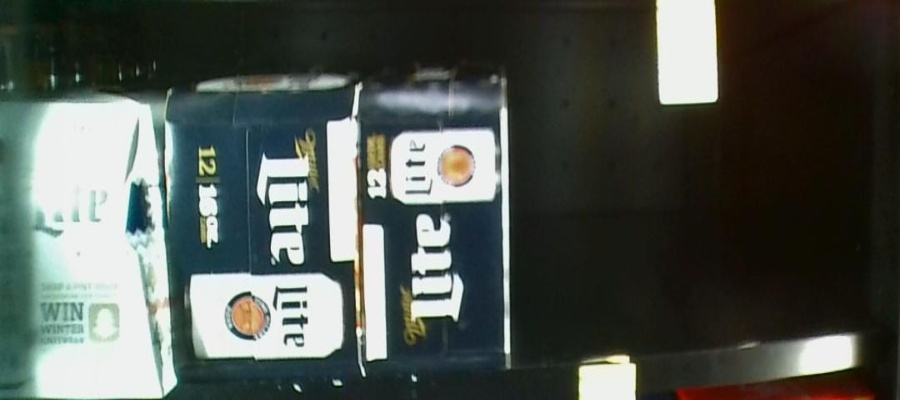bottle: (165, 77, 359, 377), (1, 95, 168, 396), (359, 70, 511, 363)
